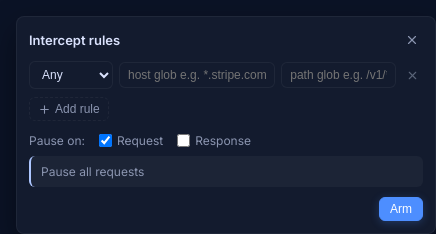
InterceptScopeEditor › updates the plain-English summary as rules change
(page scrolled)
Type "api.x.com" into the field with test id "intercept-rule-host-0" at (197,75), box [119,62,275,88]
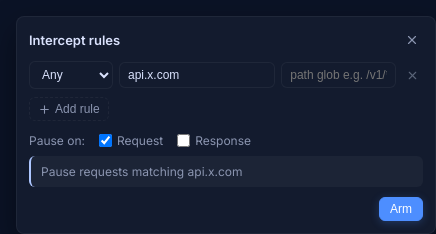
Now the text with test id "intercept-scope-summary" reads "Pause requests matching api.x.com", box [41,164,243,179]
